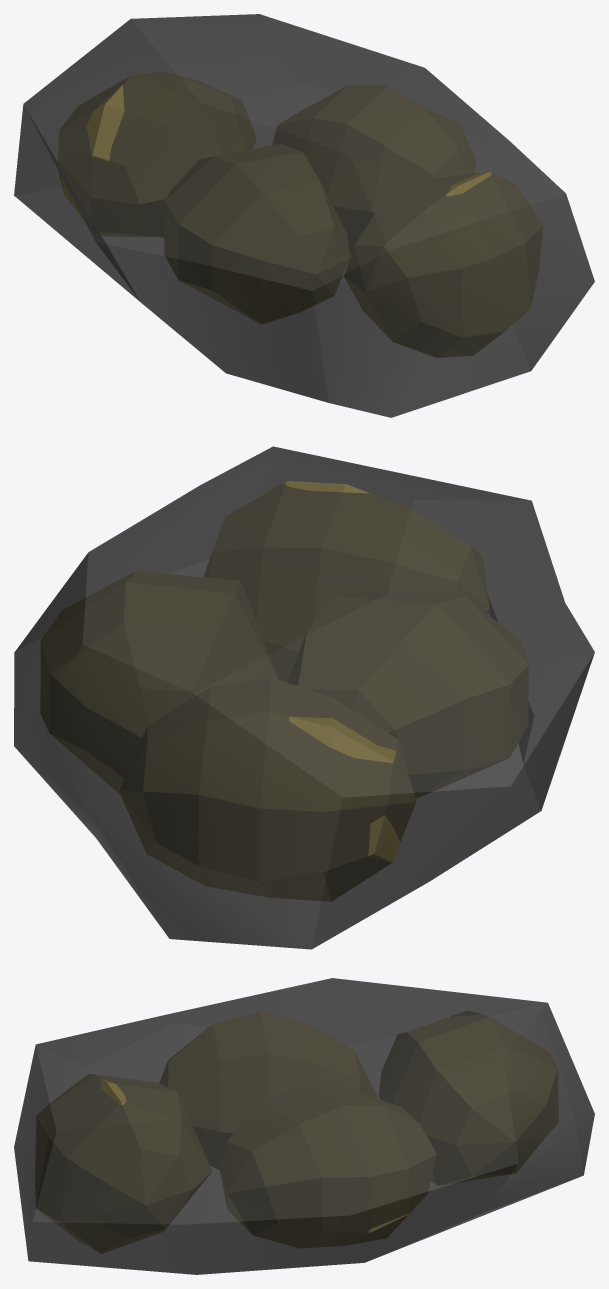
Rendered from Potatoes.fbx.
3 views of the same model, one above another, from view 1: azimuth 30°, elevation 25°; view 2: azimuth 150°, elevation 25°; view 3: azimuth 270°, elevation 25° (orthographic). The views are drawn at different scales.
Parts seen in each view (by area): view 1: pSphere7; view 2: pSphere7; view 3: pSphere7.
Boxes of the visible parts, x1,y1,x2,y2 form: pSphere7: (14, 14, 594, 417); pSphere7: (14, 446, 594, 949); pSphere7: (14, 978, 594, 1274).
Size of the model in its own units: 4.5 by 2.5 by 6.1.
